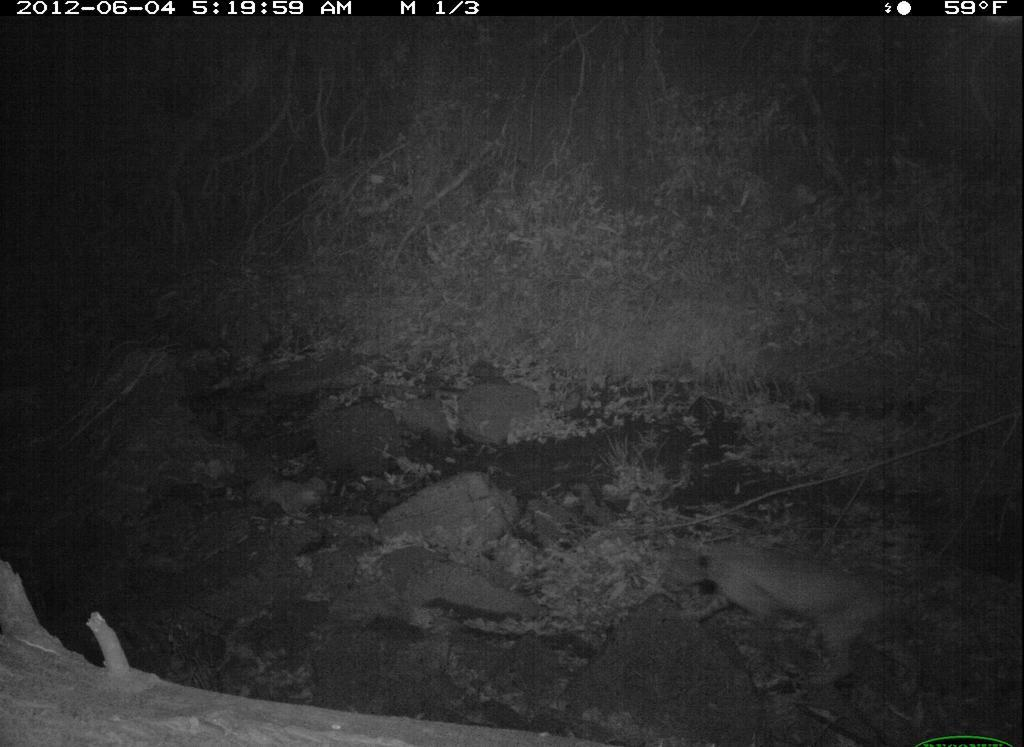bobcat: (658, 528, 933, 706)
